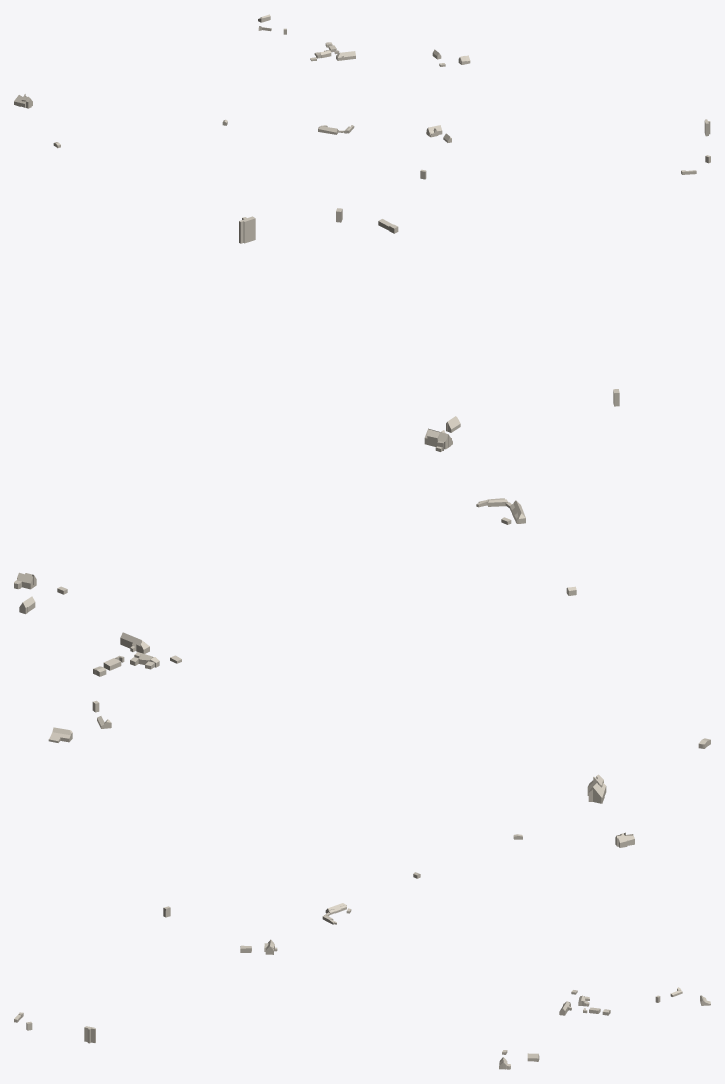
The picture shows the model from 3 angles, top to bottom: view 1: azimuth 30°, elevation 25°; view 2: azimuth 150°, elevation 25°; view 3: azimuth 270°, elevation 25°; orthographic projection. The views are drawn at different scales.
Size of the model in its own units: 626 by 83.08 by 733.
